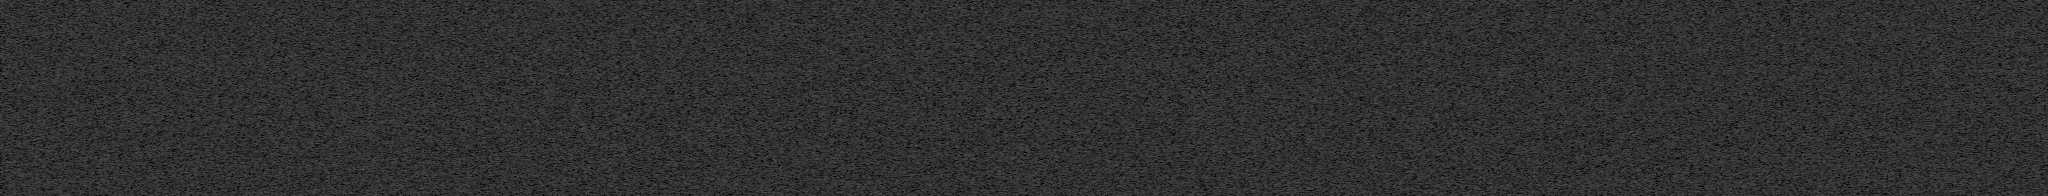wv_am: (1863, 0, 1866, 196)
wv_lsb: (1840, 142, 1846, 196), (1840, 51, 1846, 101), (1840, 3, 1846, 48), (1808, 127, 1813, 169), (1848, 106, 1853, 145), (1808, 71, 1813, 108), (1808, 27, 1813, 63), (1808, 1, 1813, 26), (1848, 1, 1853, 24), (1840, 108, 1846, 125), (1848, 172, 1852, 192), (1848, 155, 1852, 171), (1848, 27, 1852, 42), (1840, 125, 1844, 135), (1808, 174, 1813, 179), (1848, 149, 1852, 154), (1808, 64, 1813, 68), (1842, 101, 1844, 107), (1809, 114, 1812, 120), (1808, 108, 1812, 112), (1808, 180, 1813, 183), (1842, 137, 1844, 142), (1808, 170, 1813, 172), (1849, 48, 1852, 54), (1848, 193, 1852, 196), (1849, 84, 1852, 88), (1849, 77, 1852, 81), (1849, 24, 1852, 27), (1809, 122, 1812, 125), (1849, 89, 1852, 91)
